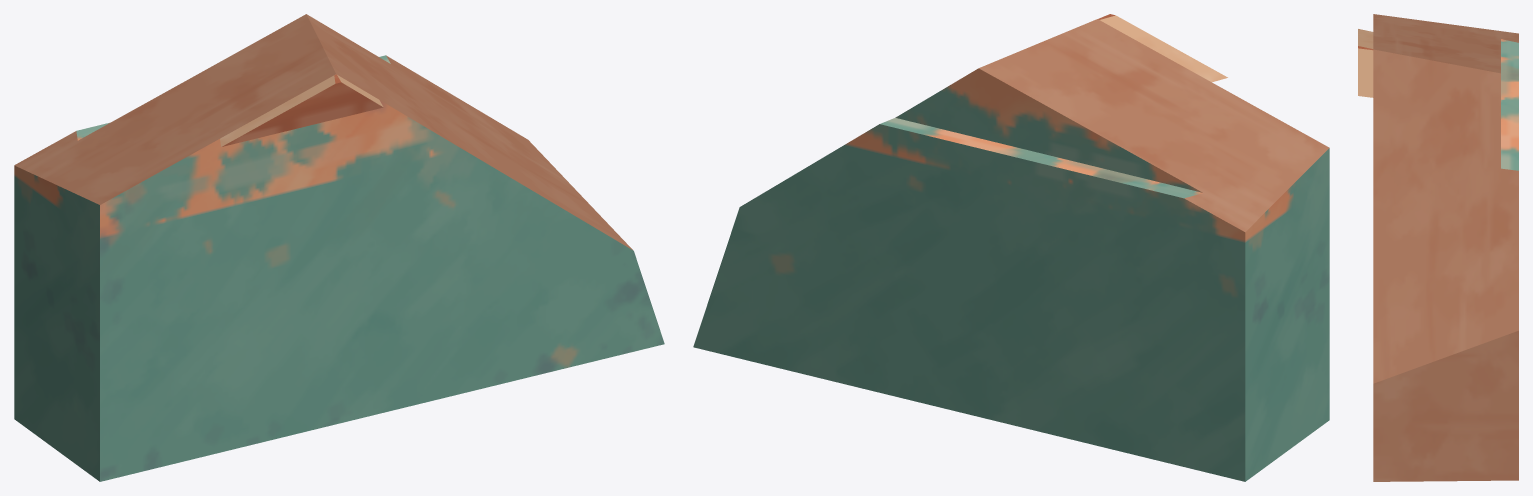
File: wall2_shutter_s02.fbx
3 renders of one model, left to right at view 1: azimuth 30°, elevation 25°; view 2: azimuth 150°, elevation 25°; view 3: azimuth 270°, elevation 25°, orthographic. The views are drawn at different scales.
Parts seen in each view (by area): view 1: wall2_shutter_s02; view 2: wall2_shutter_s02; view 3: wall2_shutter_s02.
Part boxes in pixels (box(x1,y1,x2,y2)): wall2_shutter_s02: box(14, 14, 664, 481); wall2_shutter_s02: box(693, 14, 1329, 481); wall2_shutter_s02: box(1358, 14, 1518, 481).
Size of the model in its own units: 4.33 by 2.56 by 1.26.
